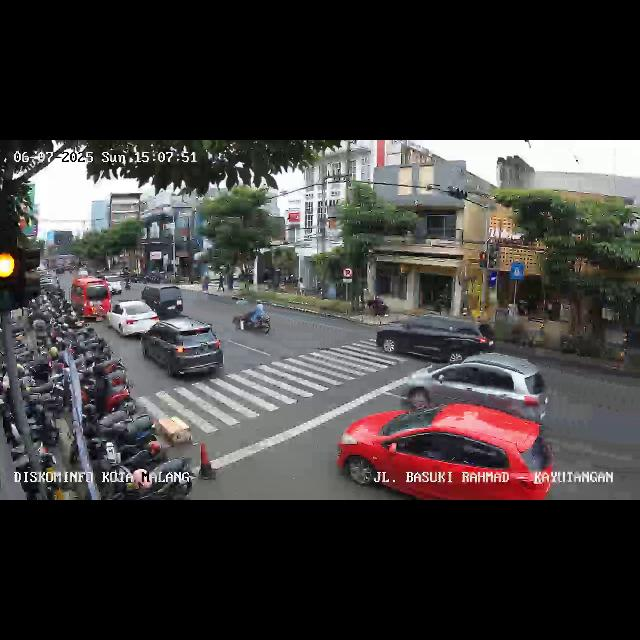car: (338, 402, 554, 500), (405, 351, 549, 421), (378, 310, 492, 366), (142, 320, 226, 382), (108, 300, 158, 340), (70, 276, 110, 322), (139, 284, 183, 316)
motorcycle: (232, 298, 272, 338)
